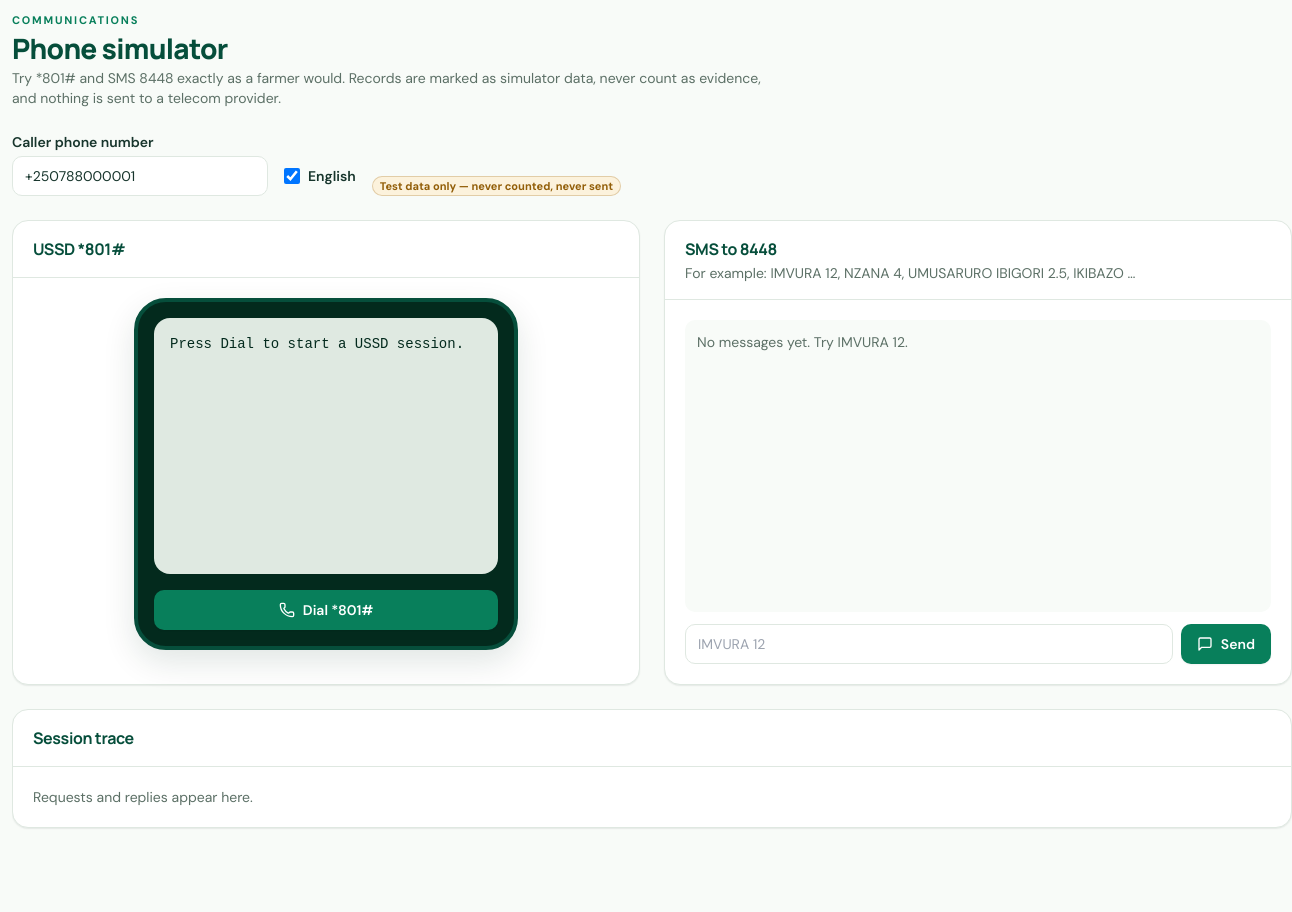
Test case: SimulatorPage › runs a USSD session against the simulator endpoint
Click the button "Dial *801#" at (326, 610), box [154, 590, 498, 630]
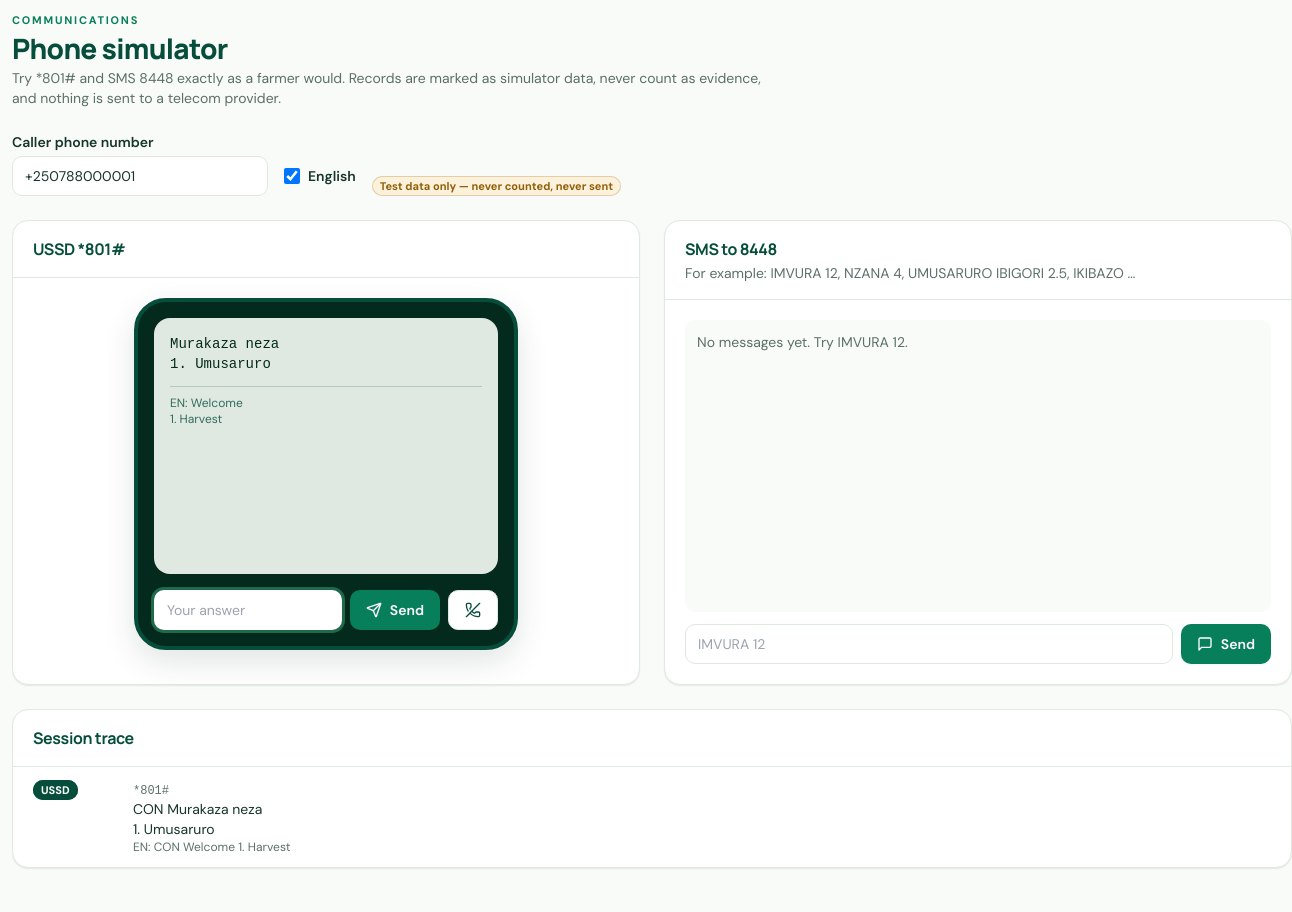
Check: the field labelled "Your answer" is shown, box [154, 590, 342, 630]
